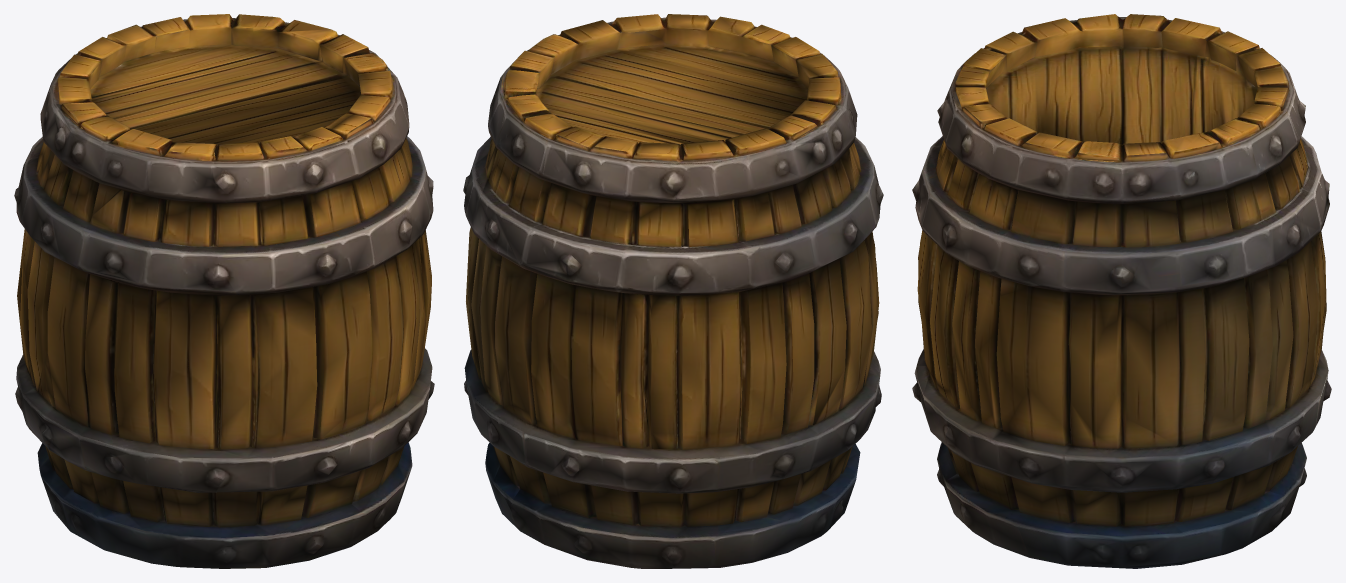
Rendered from barrel.opt.glb.
3 renders of one model, left to right at view 1: azimuth 30°, elevation 25°; view 2: azimuth 150°, elevation 25°; view 3: azimuth 270°, elevation 25°, orthographic.
Parts seen in each view (by area): view 1: node_0; view 2: node_0; view 3: node_0.
Part boxes in pixels (<box>): node_0: <box>14,14,434,568</box>; node_0: <box>463,14,883,568</box>; node_0: <box>912,14,1331,568</box>.
Bounding box in the file's own units: 0.8825 × 0.9533 × 0.8814.
Materials: 1 (1 with a texture image).
